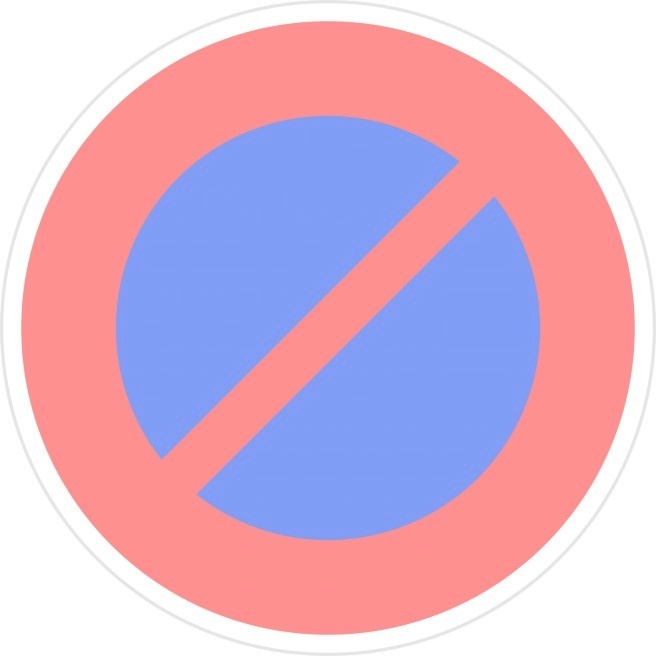Prohibition_sign: (12, 7, 651, 652)
